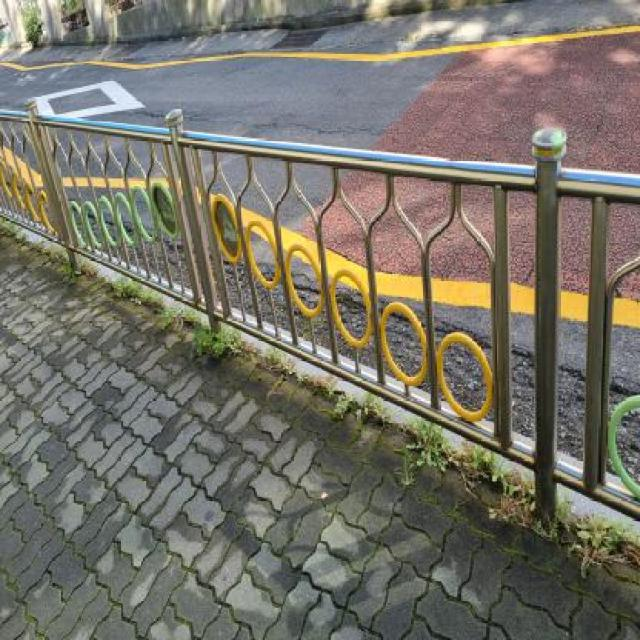fence: (0, 100, 637, 481)
